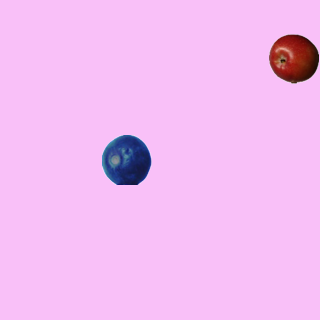Apple Braeburn: (268, 33, 318, 83)
Huckleberry: (101, 134, 151, 184)
